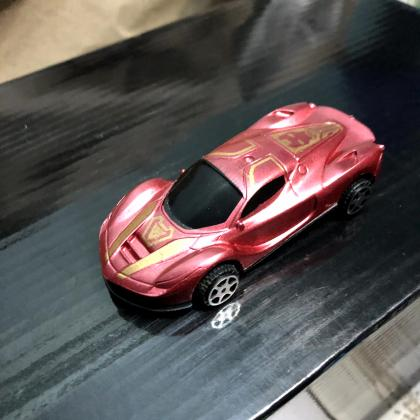Car: (98, 102, 385, 317)
